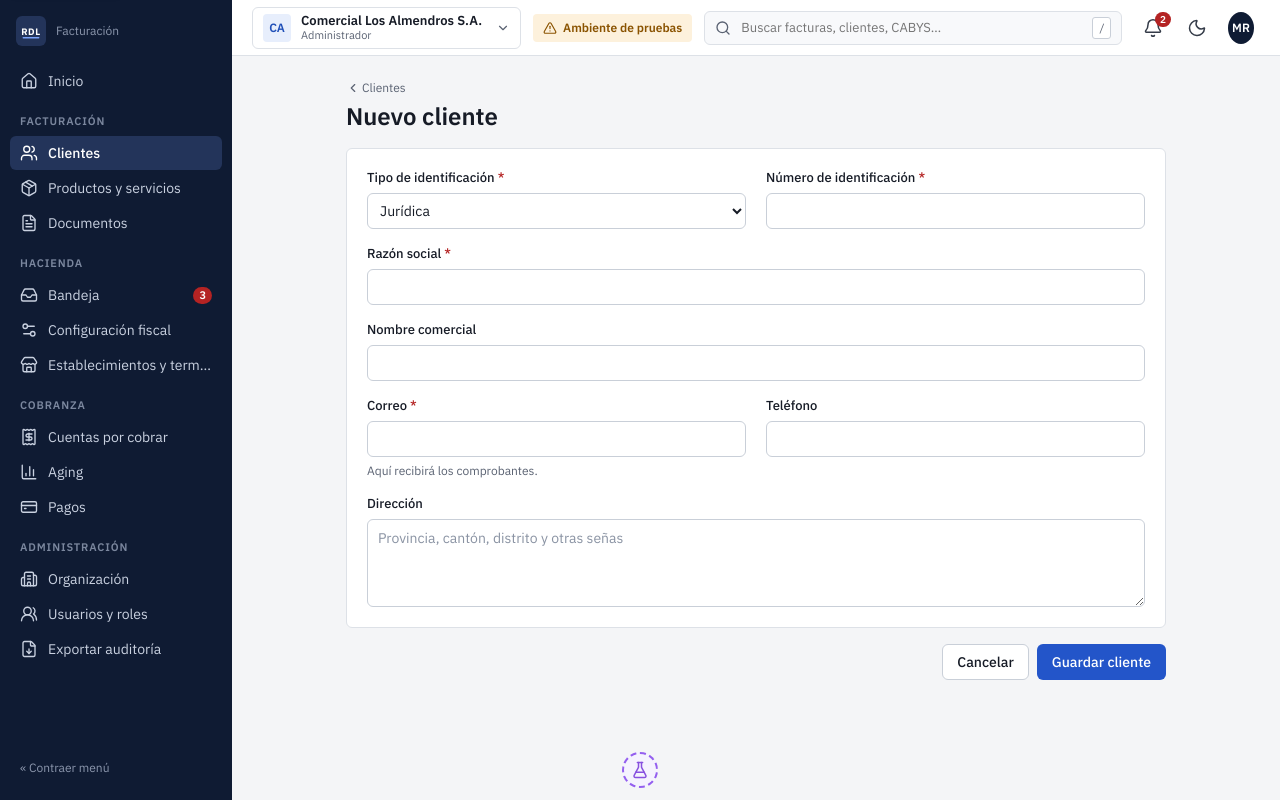
Test: pantalla 8 · crear y editar cliente › valida y crea; vuelve a la ficha con un aviso
Click the button "Guardar cliente": click(1101, 662) [1037, 644, 1166, 680]
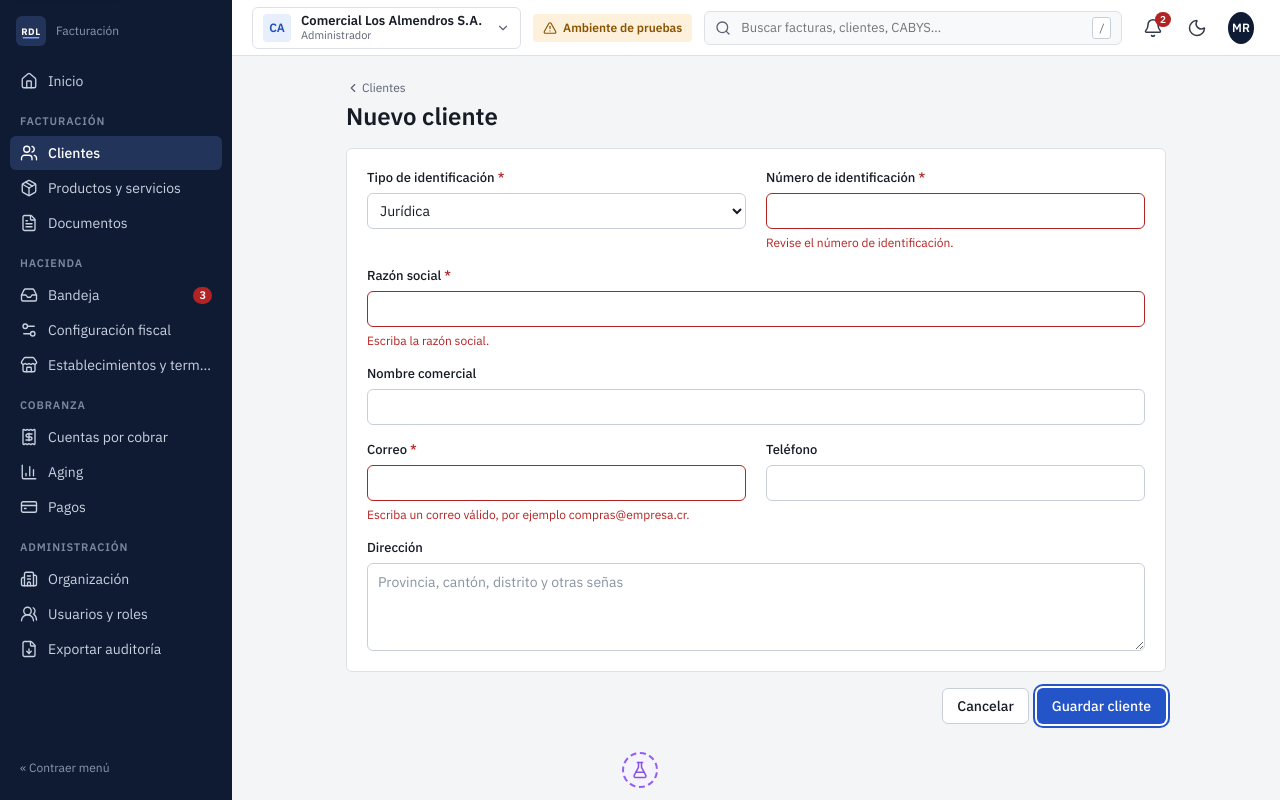
Check: the text "Escriba la razón social." is shown, box [367, 333, 489, 348]
Check: the text "Escriba un correo válido, por ejemplo compras@empresa.cr." is shown, box [367, 507, 746, 523]
In the field labelled "Número de identificación *": (956, 211) [766, 193, 1145, 229], type "3101777888"
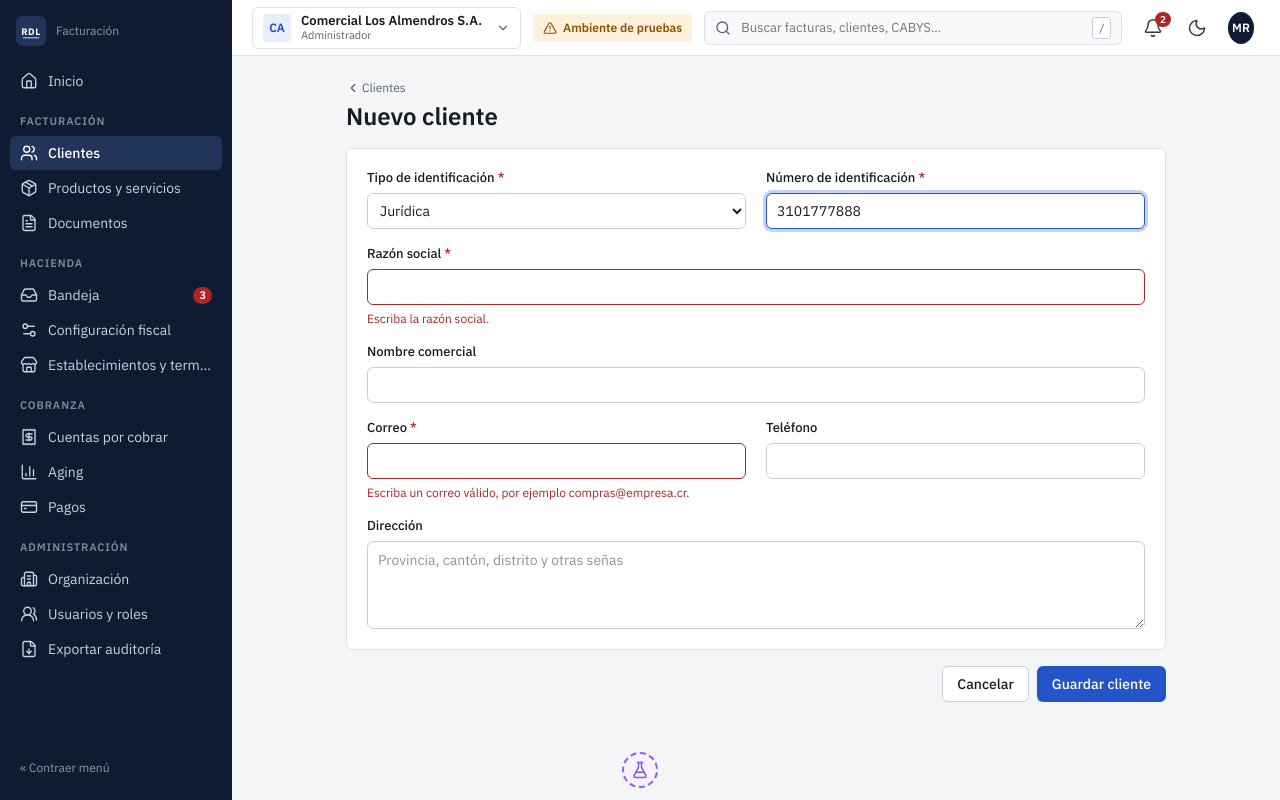
In the field labelled "Razón social *": (756, 287) [367, 269, 1145, 305], type "Vivero Los Lirios S.A."
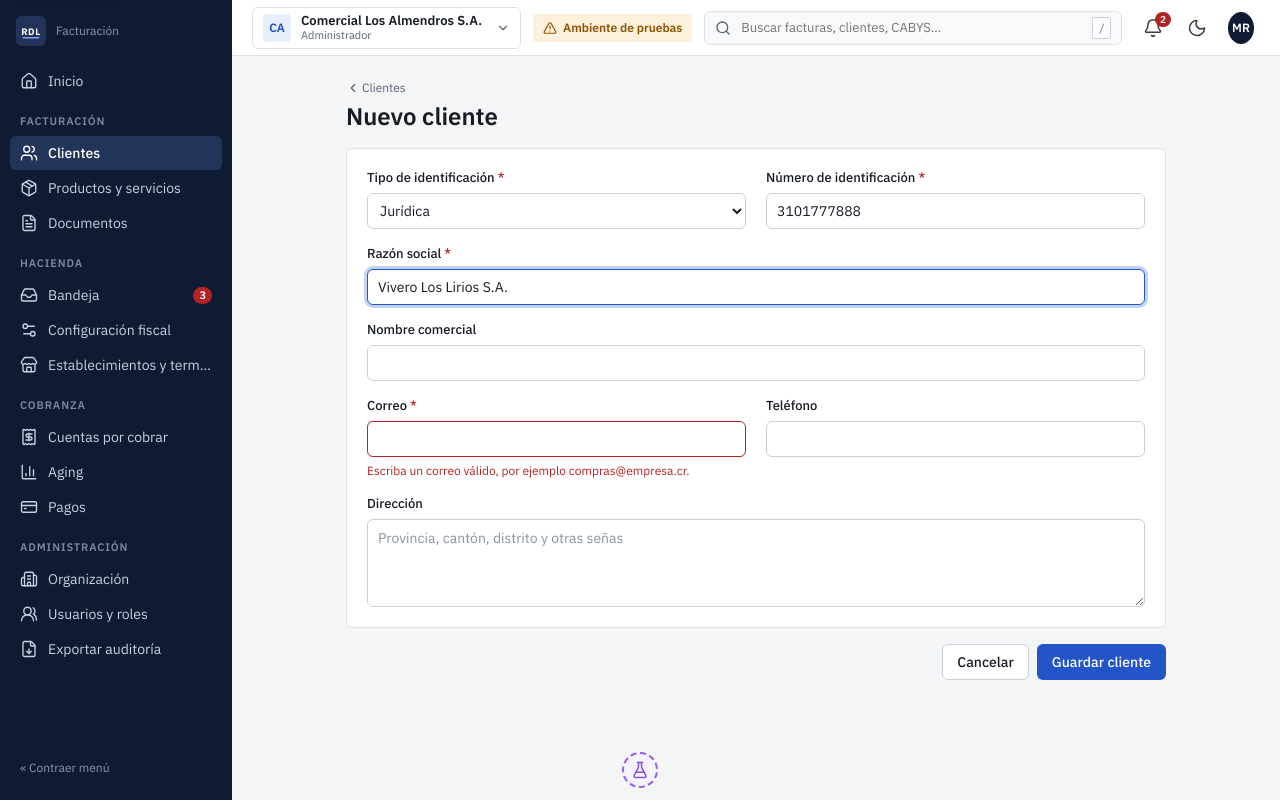
In the field labelled "Correo *": (556, 439) [367, 421, 746, 457], type "ventas@lirios.cr"
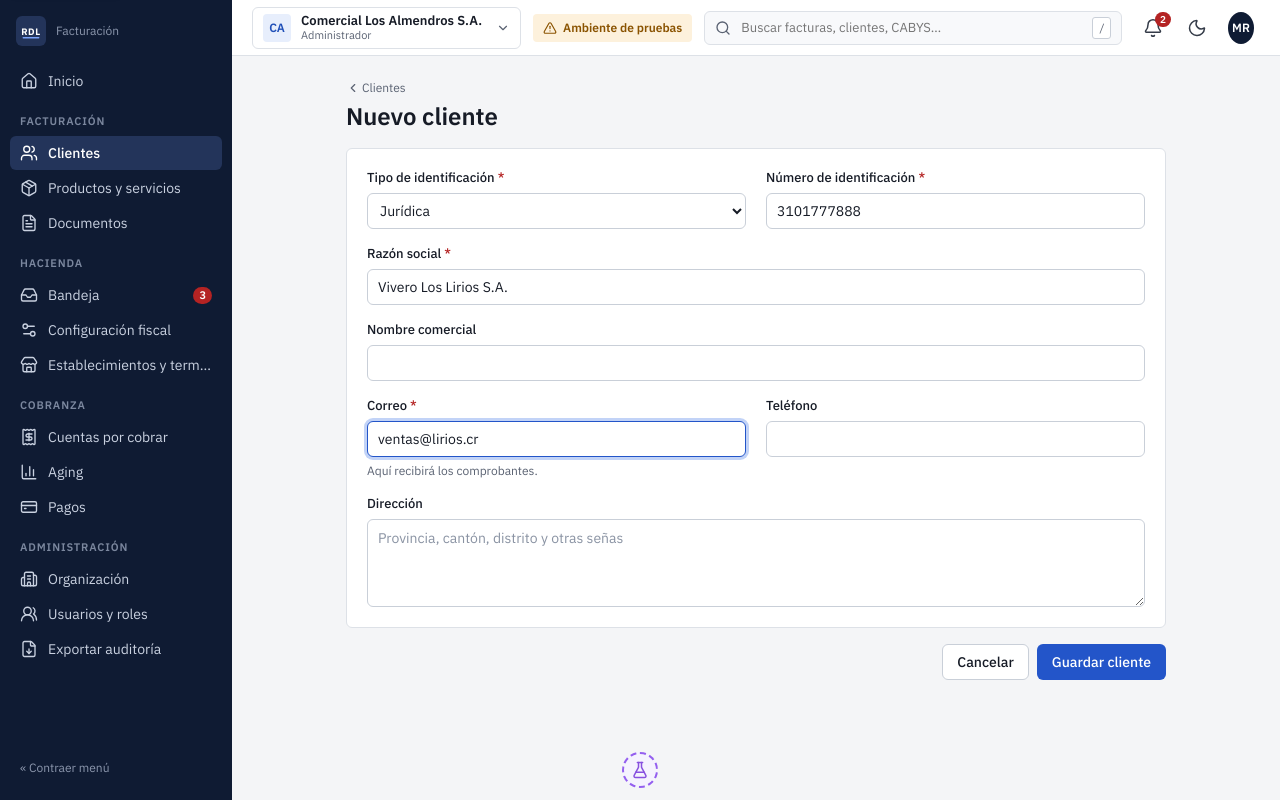
Click the button "Guardar cliente": click(1101, 662) [1037, 644, 1166, 680]
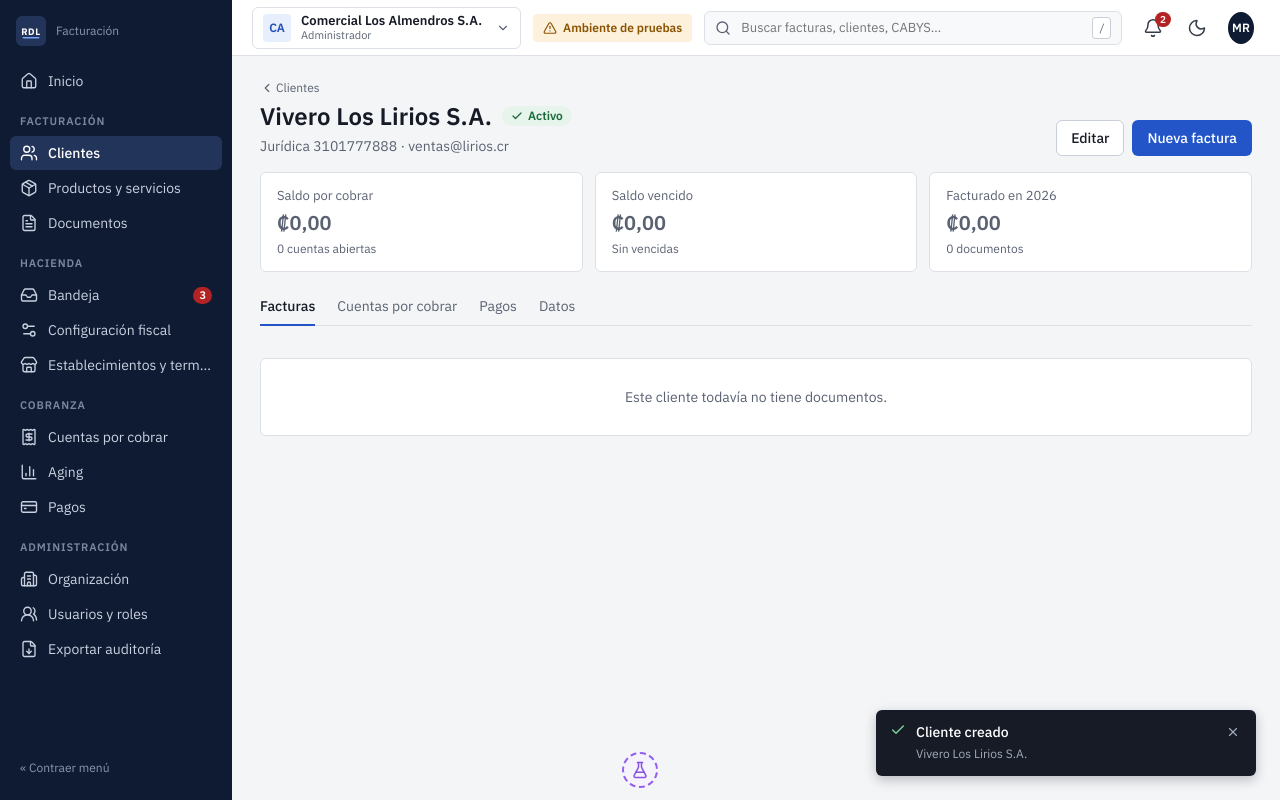
Check: the text "Cliente creado" is shown, box [916, 723, 1009, 741]
Check: the heading "Vivero Los Lirios S.A. Activo" is shown, box [260, 100, 572, 132]
